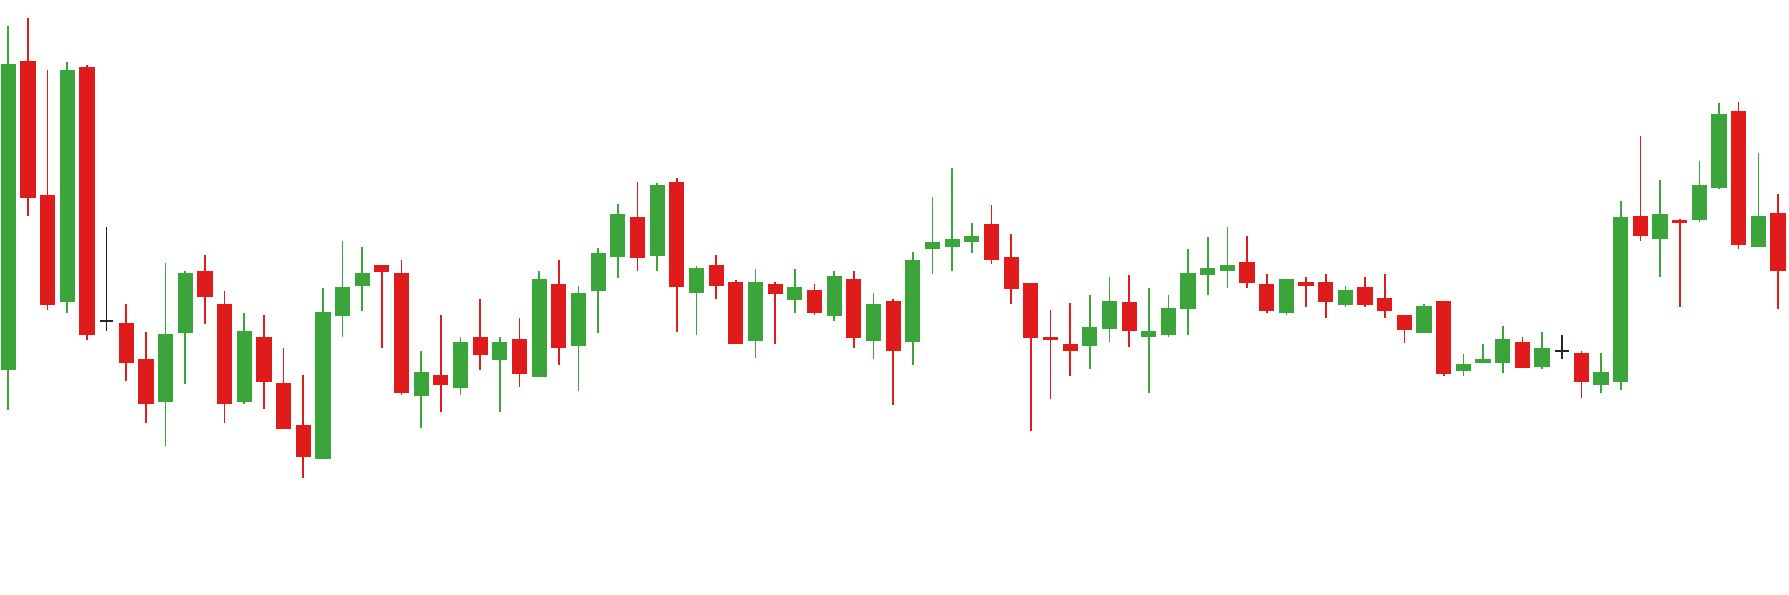buy: (138, 316, 333, 477), (881, 264, 1045, 439)
sell: (1630, 103, 1751, 222)
